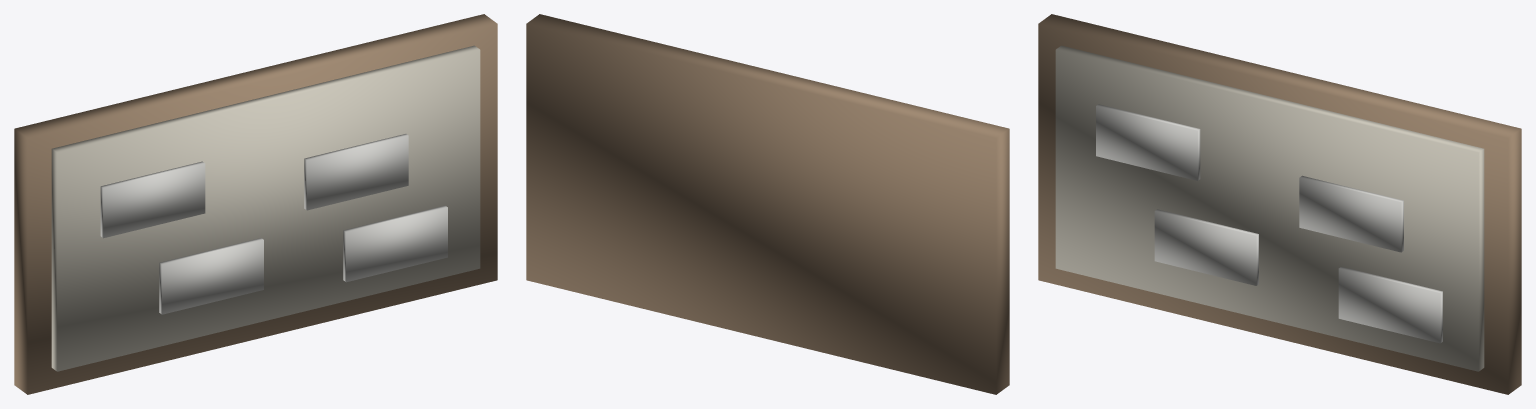
File: key_hook_board__squat.glb
3 views of the same model, side by side, from view 1: azimuth 30°, elevation 25°; view 2: azimuth 150°, elevation 25°; view 3: azimuth 330°, elevation 25° (orthographic).
Parts seen in each view (by area): view 1: world; view 2: world; view 3: world.
Boxes of the visible parts, x1=… form: world: x1=14, y1=14, x2=497, y2=394; world: x1=526, y1=14, x2=1009, y2=394; world: x1=1038, y1=14, x2=1521, y2=394.
Size of the model in its own units: 1.32 by 0.6888 by 0.1091.
